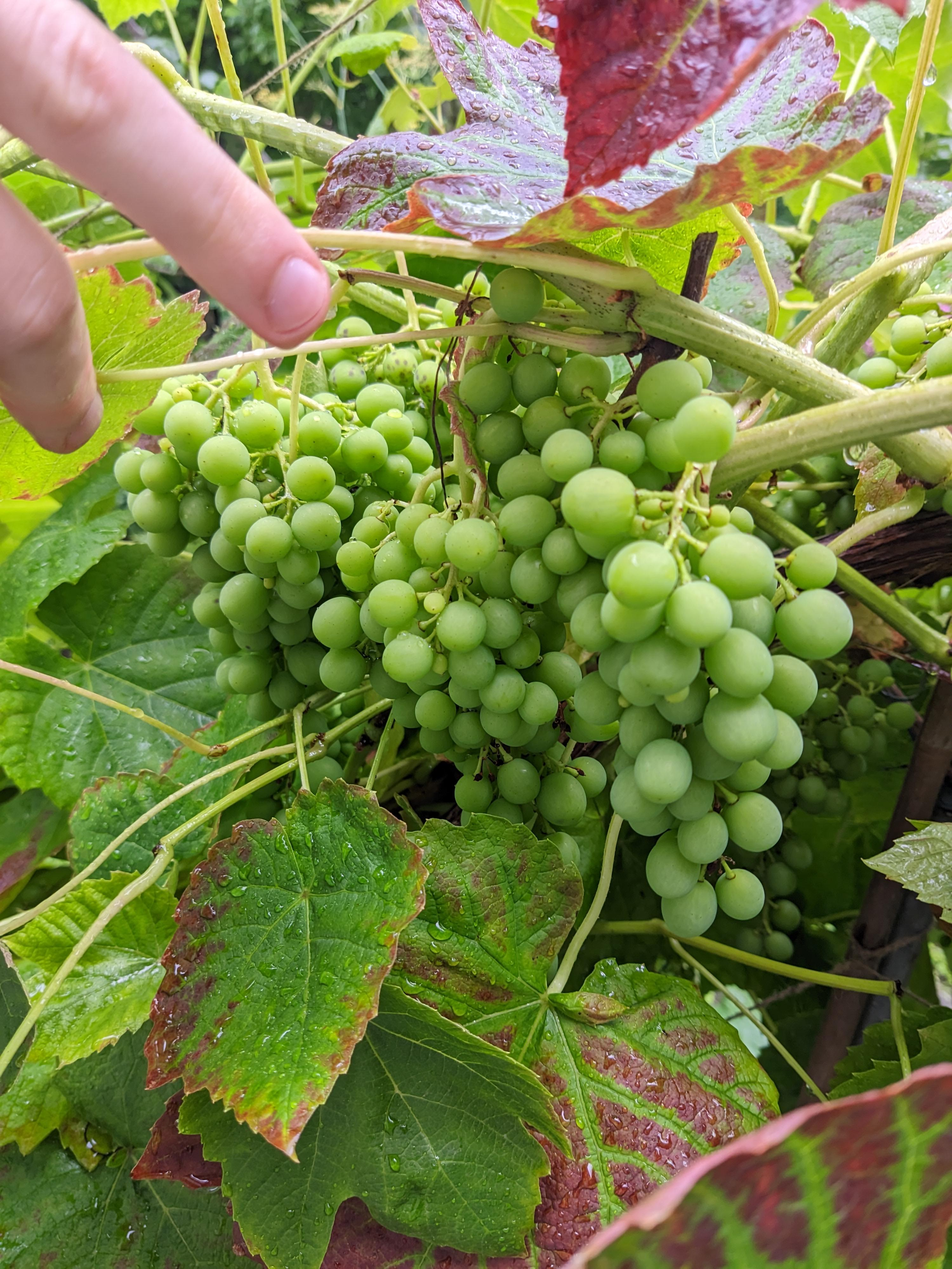Grape Unripe: (563, 398, 853, 935), (114, 345, 437, 722), (314, 485, 607, 829), (750, 651, 925, 962), (465, 264, 697, 483), (859, 297, 952, 396)
